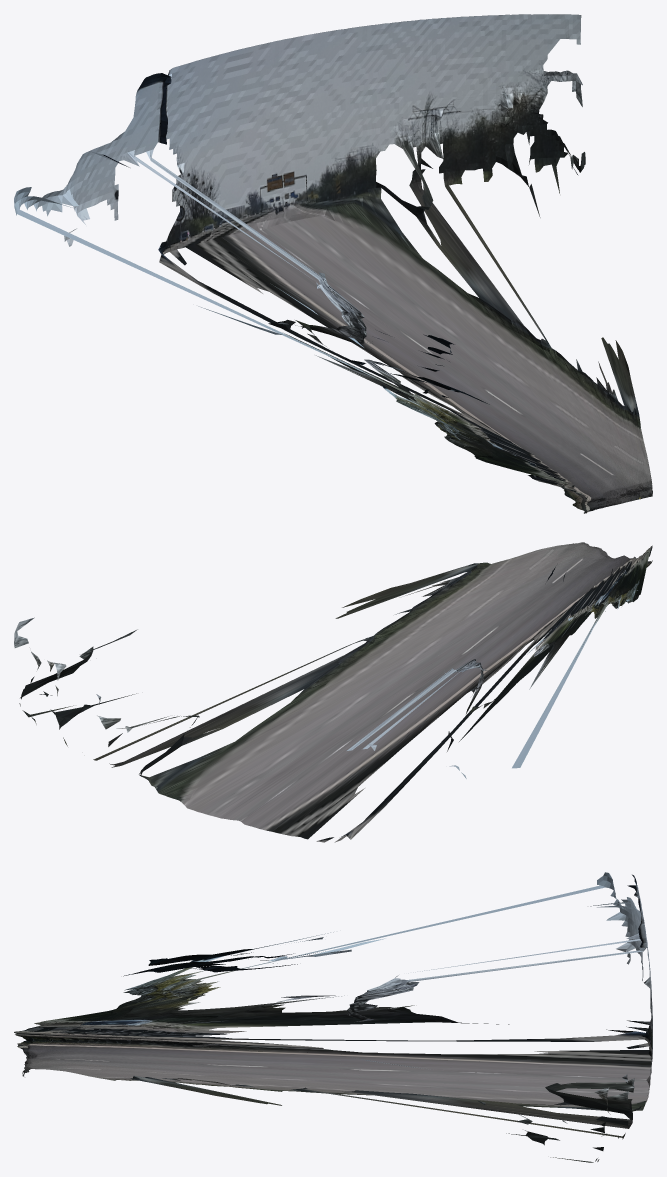
3 views of the same model, one above another, from view 1: azimuth 30°, elevation 25°; view 2: azimuth 150°, elevation 25°; view 3: azimuth 270°, elevation 25° (orthographic). The views are drawn at different scales.
Visible parts, largest first — view 1: defaultobject; view 2: defaultobject; view 3: defaultobject.
Boxes of the visible parts, x1,y1,x2,y2 form: defaultobject: [14, 14, 652, 513]; defaultobject: [14, 542, 652, 842]; defaultobject: [14, 872, 652, 1162].
Size of the model in its own units: 37.03 by 12.37 by 44.91.
1 material, 1 textured.
